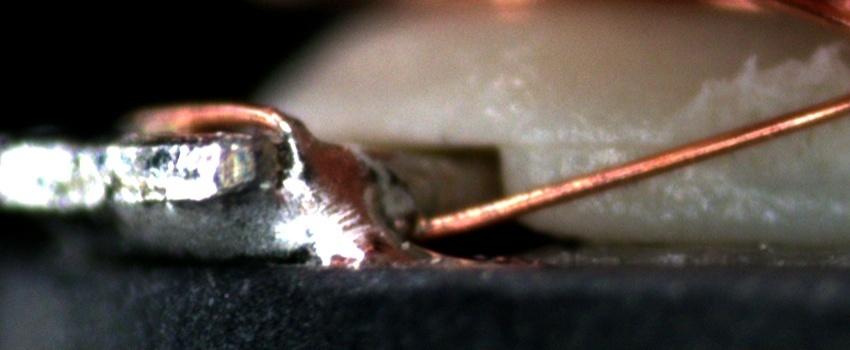DL: (523, 111, 679, 175)
TE: (138, 99, 337, 176)
